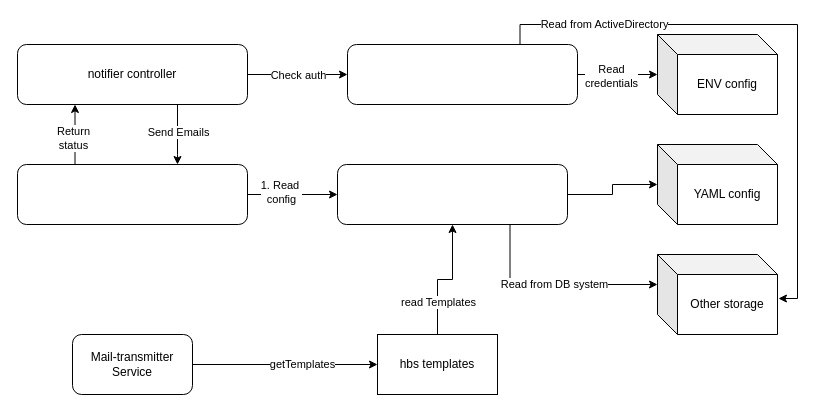
This 823x412 diagram has some shape labels left out. Each missing label, with the centre of its shape:
"Auth Guard" goes at (x=462, y=74).
"config Service" goes at (x=452, y=194).
"notifier service" goes at (x=132, y=194).
